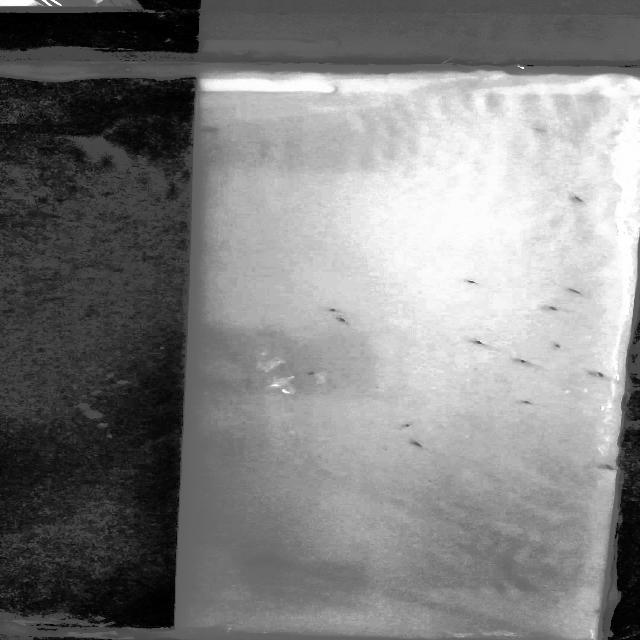shrimp: (553, 188, 593, 205), (446, 274, 485, 291), (531, 338, 574, 349), (533, 301, 564, 315), (463, 335, 493, 349), (407, 437, 430, 454), (517, 397, 543, 412), (321, 317, 358, 327), (554, 283, 581, 296), (508, 354, 535, 366), (300, 369, 324, 379)
